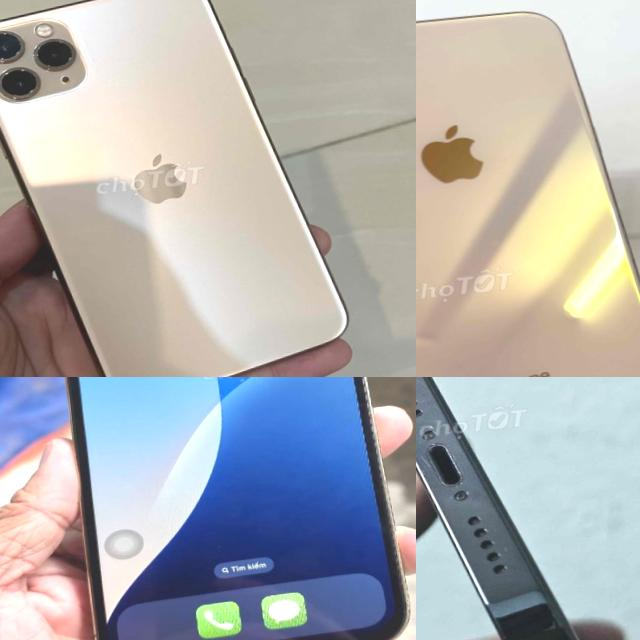gen_11: (0, 0, 356, 377)
gen_12_13: (39, 377, 416, 640), (416, 377, 611, 640)
gen_x_xs: (416, 12, 640, 377)
